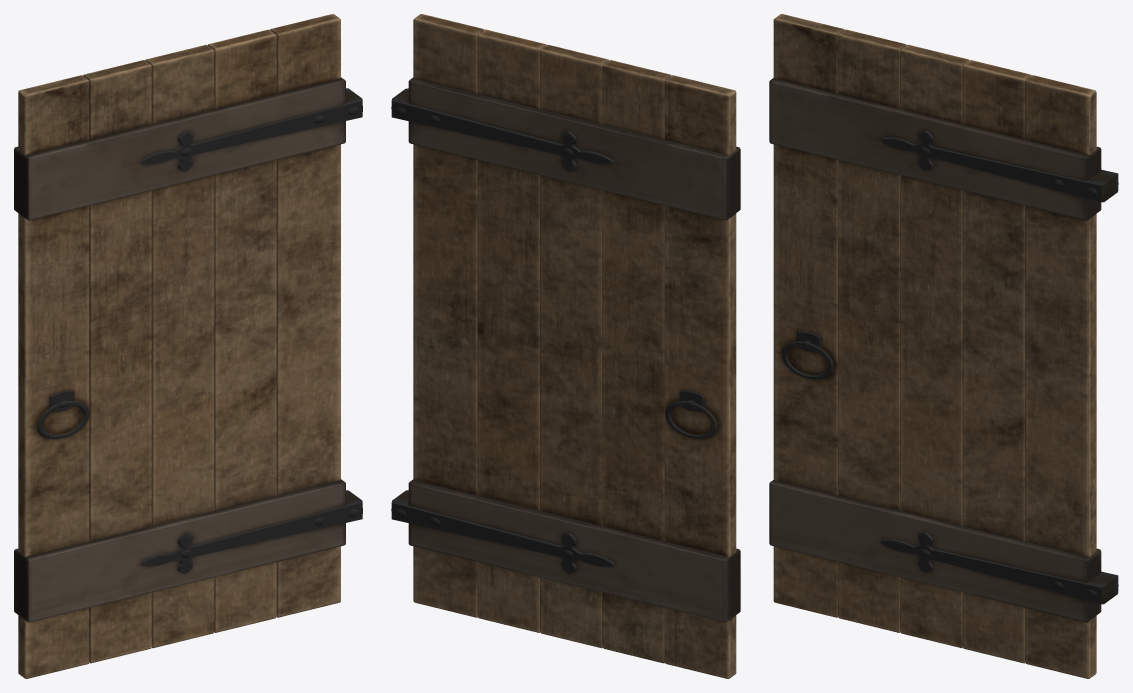
File: BW_Inn01_ServiceDoor.fbx
The picture shows the model from 3 angles, left to right: view 1: azimuth 30°, elevation 25°; view 2: azimuth 150°, elevation 25°; view 3: azimuth 330°, elevation 25°; orthographic projection.
Visible parts, largest first — view 1: BW_Inn01_ServiceDoor; view 2: BW_Inn01_ServiceDoor; view 3: BW_Inn01_ServiceDoor.
Boxes of the visible parts, box(x1,y1,x2,y2) form: BW_Inn01_ServiceDoor: box(14, 14, 362, 678); BW_Inn01_ServiceDoor: box(391, 14, 740, 678); BW_Inn01_ServiceDoor: box(769, 14, 1118, 678).
Bounding box in the file's own units: 1.36 × 2.27 × 0.1318.
